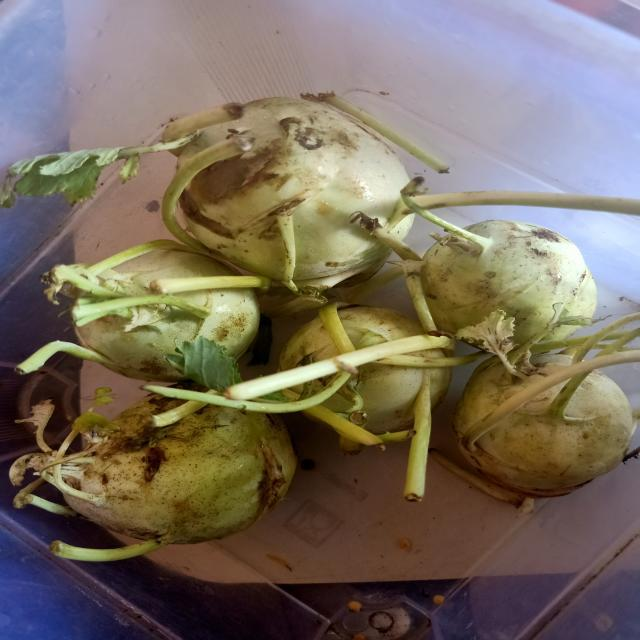Turnip: (177, 97, 409, 288), (60, 395, 296, 545), (16, 240, 261, 381), (460, 371, 638, 498), (421, 220, 598, 346), (453, 354, 573, 441), (350, 364, 423, 434), (337, 306, 424, 350), (278, 318, 338, 371), (430, 368, 452, 410), (323, 393, 356, 415), (412, 348, 446, 358)
